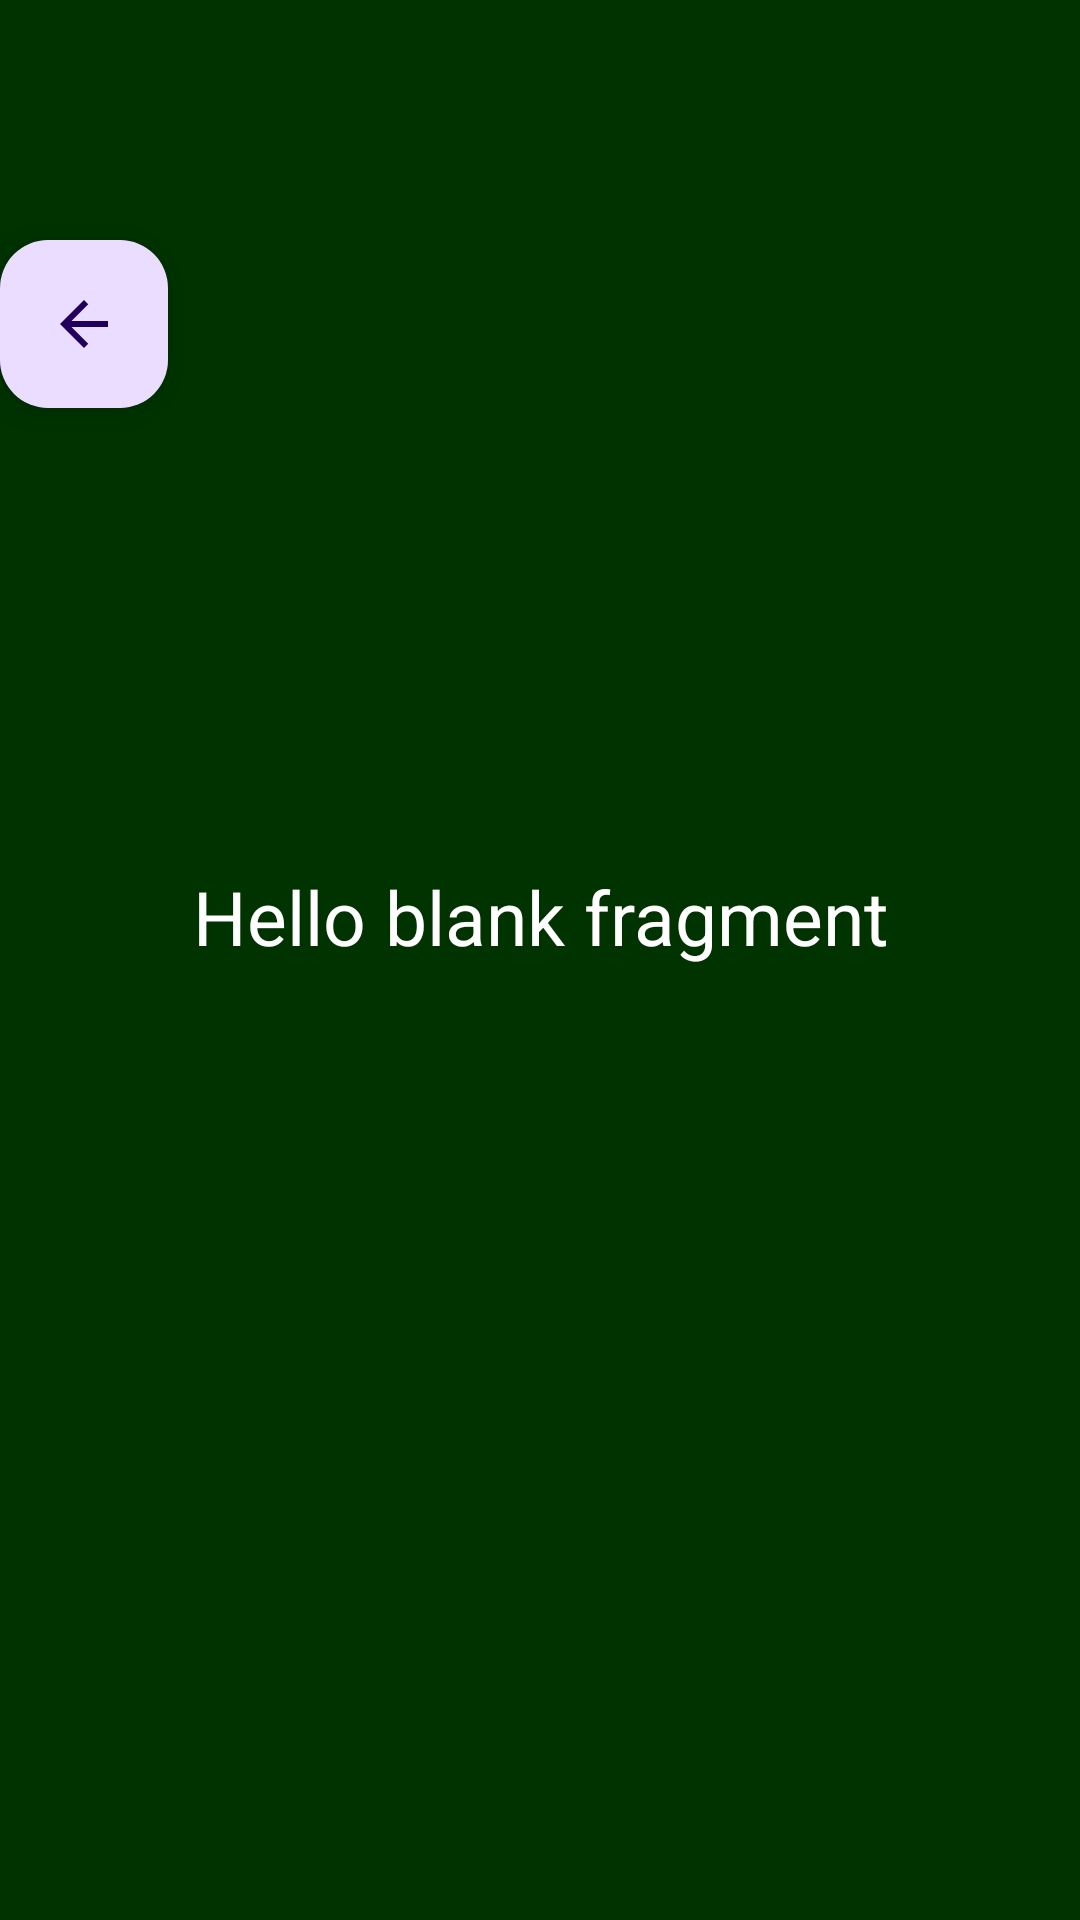

Icon bounding boxes for this 1080*1920 phone screenshot, format bbox(x1, y1, x2, y2):
arrow back: bbox(0, 240, 168, 408)
